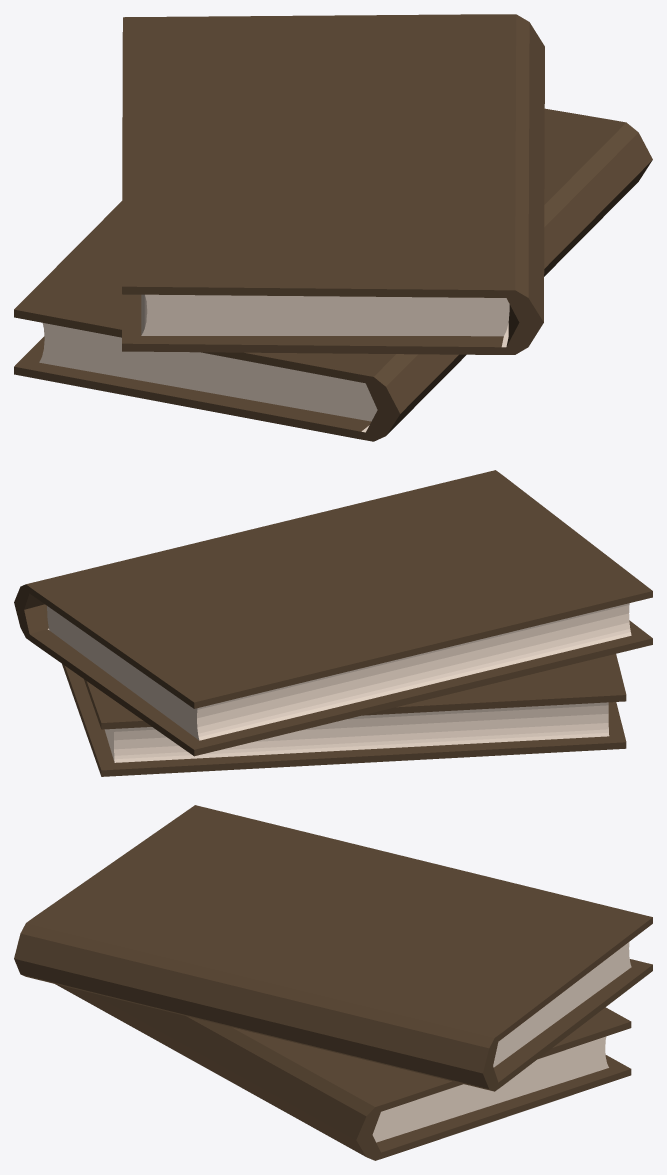
The model's file is pila_libros.fbx.
3 renders of one model, top to bottom at view 1: azimuth 30°, elevation 25°; view 2: azimuth 150°, elevation 25°; view 3: azimuth 270°, elevation 25°, orthographic. The views are drawn at different scales.
Visible parts, largest first — view 1: pila de libros; view 2: pila de libros; view 3: pila de libros.
Boxes of the visible parts, x1,y1,x2,y2 form: pila de libros: [14, 14, 652, 441]; pila de libros: [14, 470, 652, 776]; pila de libros: [14, 805, 652, 1160].
Bounding box in the file's own units: 4889 × 909 × 4894.
